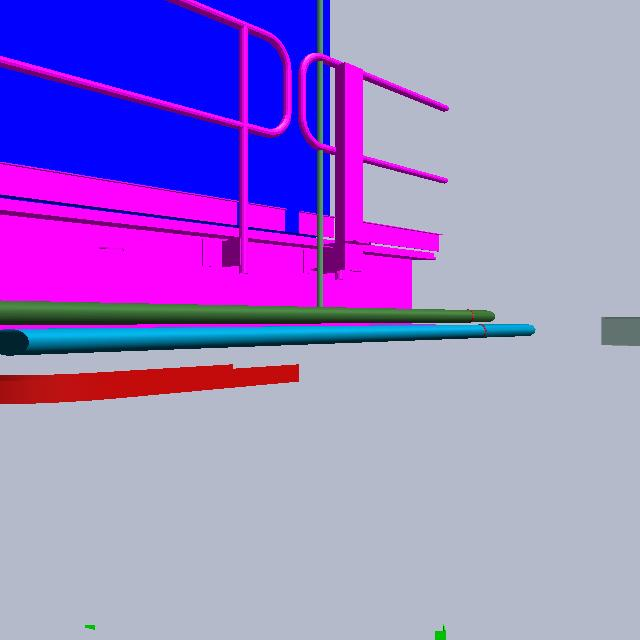Poste: (304, 1, 333, 319)
Soporte: (314, 60, 370, 281)
